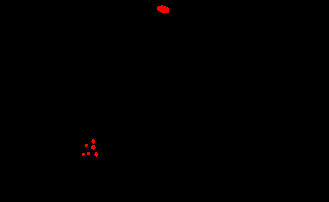Target: (157, 5, 169, 13), (91, 145, 96, 150), (91, 139, 95, 144), (94, 152, 98, 157), (85, 144, 88, 147), (87, 152, 90, 155), (82, 153, 85, 156)
